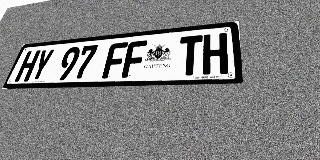7: (72, 45, 98, 80)
9: (55, 46, 82, 80)
F: (121, 40, 147, 78), (102, 42, 128, 79)
H: (202, 33, 228, 75), (14, 50, 41, 82)
T: (177, 35, 203, 76)
Y: (28, 49, 55, 81)
